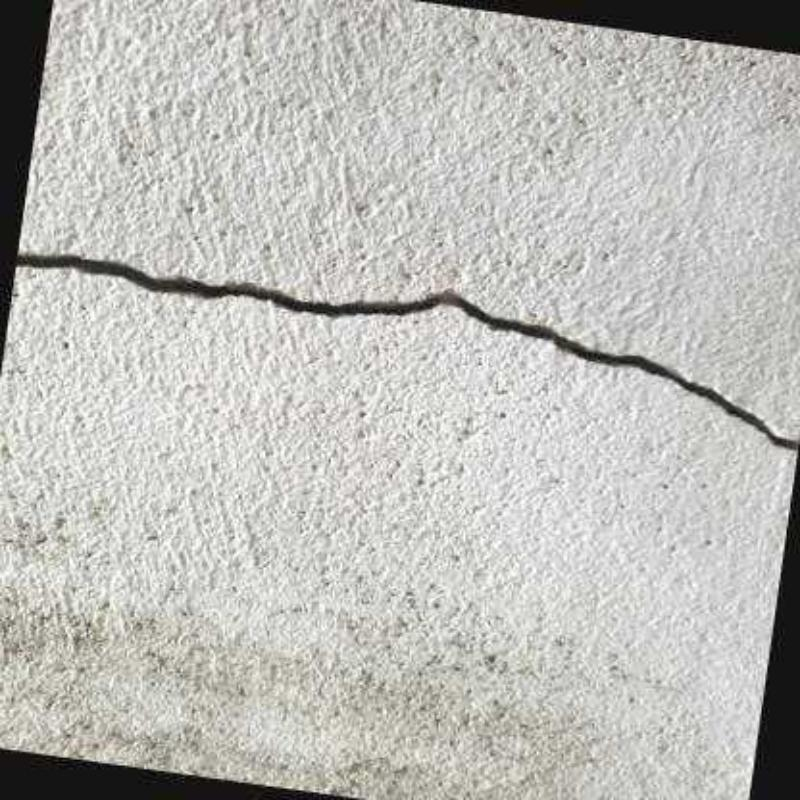pothole: (15, 252, 798, 455)
